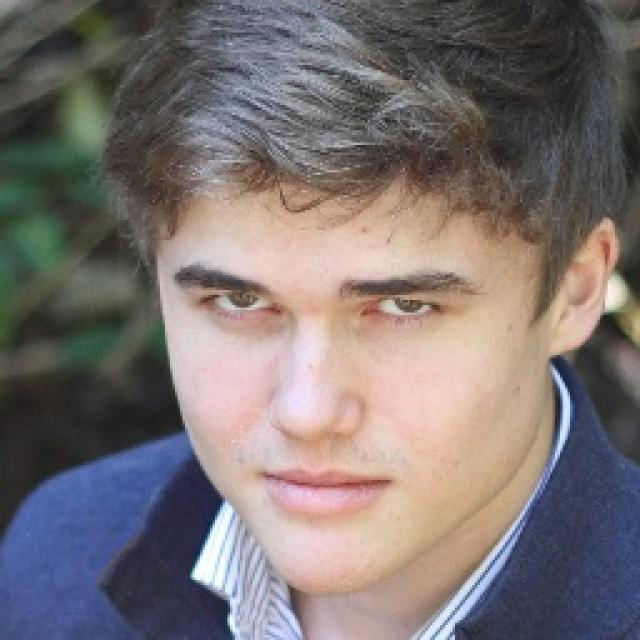earlobe: (548, 304, 586, 360)
eye: (357, 290, 446, 328), (203, 283, 278, 316)
nose: (273, 427, 353, 461)
wholeear: (548, 217, 619, 361)
